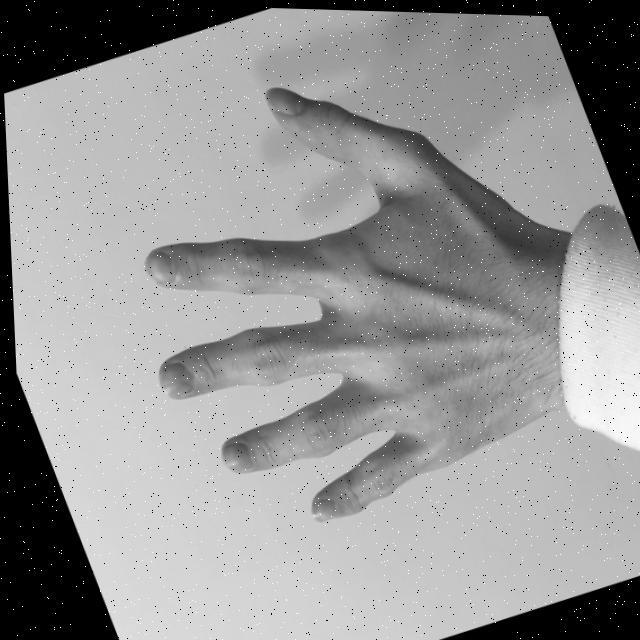no-gloves: (64, 28, 574, 562)
